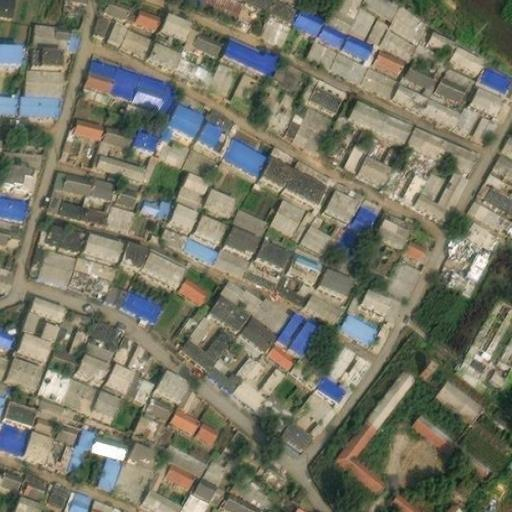building: (414, 408, 489, 473), (460, 293, 512, 372), (333, 413, 387, 487), (221, 348, 285, 407), (415, 153, 469, 216), (281, 385, 337, 445), (181, 306, 238, 364), (349, 92, 417, 140), (364, 363, 417, 423), (219, 29, 279, 70), (160, 428, 214, 473), (326, 341, 373, 388), (294, 97, 338, 147), (273, 308, 318, 353), (264, 85, 310, 129), (436, 372, 483, 415), (222, 130, 271, 171), (271, 193, 316, 237), (300, 69, 348, 109), (449, 245, 492, 289), (343, 139, 390, 179), (51, 323, 93, 367), (70, 250, 115, 291), (78, 333, 119, 378), (75, 421, 129, 455), (16, 312, 60, 353), (148, 453, 201, 487), (230, 464, 275, 504), (209, 288, 252, 329), (144, 241, 189, 280), (452, 100, 498, 138), (197, 105, 238, 147), (379, 253, 420, 295), (220, 274, 265, 312), (38, 241, 79, 281), (167, 95, 209, 134), (435, 131, 479, 168), (351, 2, 392, 41), (132, 69, 174, 107), (362, 278, 405, 315), (301, 219, 347, 253), (285, 162, 327, 199), (466, 192, 510, 227), (95, 147, 146, 177), (154, 359, 192, 399), (373, 208, 415, 244), (177, 164, 214, 204), (363, 231, 400, 270), (170, 383, 202, 428), (338, 306, 380, 340), (140, 480, 184, 512), (288, 348, 326, 385), (253, 293, 291, 330), (261, 0, 297, 39), (242, 252, 283, 286), (314, 258, 355, 292), (181, 141, 222, 175), (486, 331, 512, 384), (223, 217, 262, 252), (283, 245, 323, 279), (2, 348, 42, 382), (390, 75, 431, 108), (274, 266, 314, 299), (85, 53, 121, 89), (61, 371, 98, 406), (469, 78, 507, 112), (407, 119, 445, 153), (46, 215, 89, 245), (253, 232, 292, 265), (303, 286, 344, 317), (476, 55, 512, 90), (260, 149, 296, 184), (324, 182, 360, 217), (240, 311, 276, 346), (195, 205, 232, 239), (331, 47, 370, 79), (214, 240, 251, 273), (465, 211, 502, 244), (423, 90, 461, 122), (379, 23, 417, 55), (25, 61, 64, 92), (83, 225, 123, 255), (158, 3, 193, 37), (125, 365, 159, 400), (168, 194, 204, 227), (118, 22, 155, 54), (146, 33, 183, 65), (3, 146, 43, 175), (92, 6, 128, 38), (106, 353, 138, 389), (33, 19, 79, 44), (222, 484, 263, 512), (182, 231, 221, 260), (479, 175, 512, 209), (362, 62, 398, 93), (0, 392, 39, 420), (313, 369, 347, 401), (64, 131, 98, 163), (144, 386, 179, 417), (451, 39, 487, 69), (443, 55, 479, 85), (48, 183, 84, 213), (402, 55, 440, 83), (88, 382, 120, 415), (426, 23, 460, 54), (204, 181, 239, 211), (232, 202, 269, 230), (29, 289, 66, 317), (103, 196, 135, 228), (156, 130, 189, 161), (264, 334, 297, 365), (40, 362, 71, 395), (176, 268, 210, 298), (124, 434, 158, 464), (135, 404, 169, 434), (140, 185, 175, 214), (72, 108, 109, 135), (230, 66, 262, 97), (349, 195, 380, 227), (193, 23, 226, 53), (123, 286, 161, 312), (488, 147, 512, 188), (434, 70, 470, 97), (60, 163, 96, 190), (343, 28, 380, 54), (421, 352, 451, 384), (112, 63, 141, 96), (307, 36, 339, 65), (117, 233, 149, 262), (402, 232, 434, 260), (374, 42, 408, 68), (98, 450, 124, 484), (174, 52, 209, 77), (0, 185, 27, 217), (25, 426, 54, 455), (203, 449, 231, 479), (158, 220, 189, 247), (104, 118, 137, 143), (36, 394, 69, 419), (64, 484, 92, 512), (135, 0, 165, 26), (181, 487, 212, 512), (207, 352, 234, 380), (48, 433, 75, 461), (91, 172, 121, 197), (19, 468, 51, 491), (0, 260, 22, 293), (403, 166, 427, 196), (12, 489, 43, 512), (193, 413, 221, 438), (132, 122, 157, 149), (46, 475, 71, 502), (194, 471, 220, 496), (22, 91, 58, 109), (33, 42, 65, 62), (319, 18, 348, 40), (86, 491, 115, 512), (115, 179, 140, 203), (54, 417, 80, 440), (80, 199, 108, 220), (32, 410, 58, 432), (265, 381, 288, 404), (104, 280, 128, 302), (0, 36, 24, 57), (69, 441, 89, 465), (0, 85, 17, 107), (256, 500, 285, 512), (442, 497, 465, 512), (0, 319, 15, 339), (0, 220, 12, 242), (501, 128, 512, 151), (502, 213, 512, 232)
